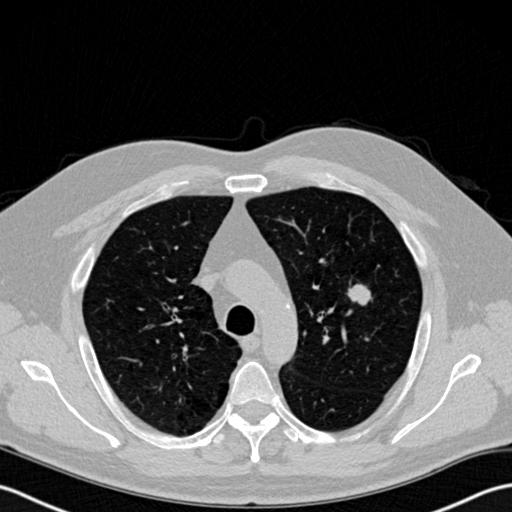nodule: (346, 281, 373, 308)
